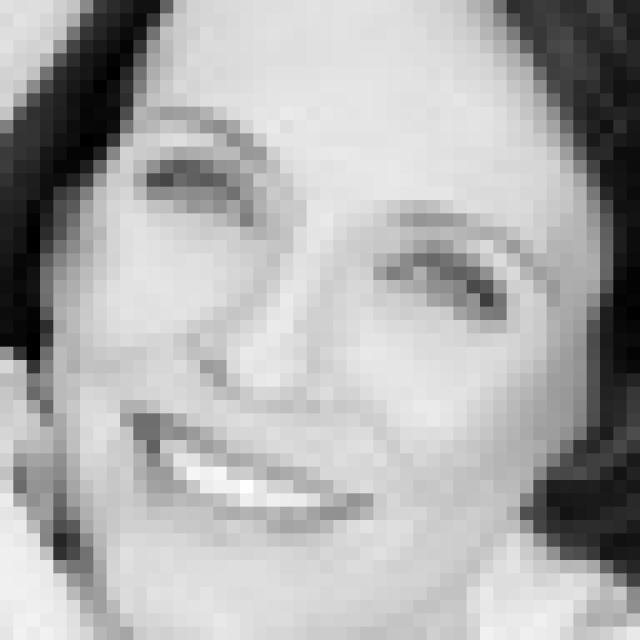happy: (108, 98, 558, 557)
